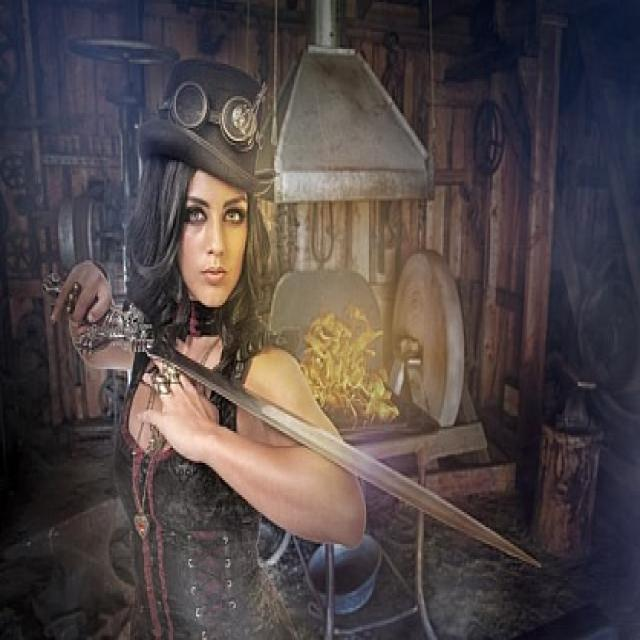Eyes: (180, 188, 252, 230)
